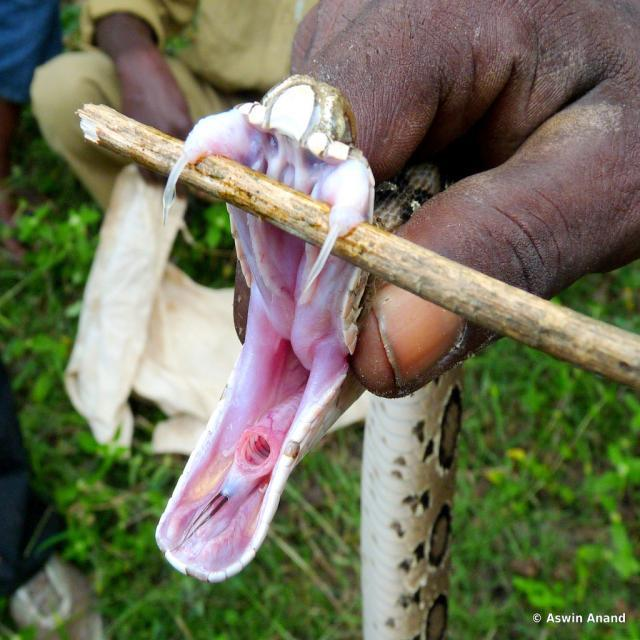Snake: (154, 72, 468, 638)
